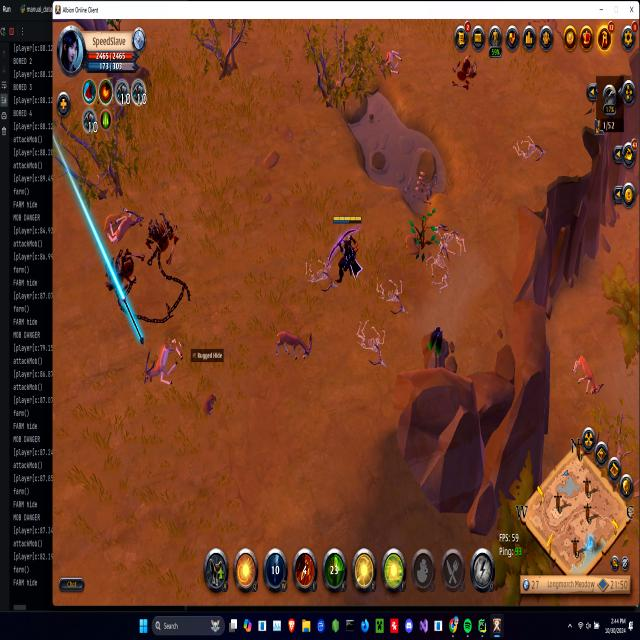mob: (142, 334, 184, 394), (106, 204, 144, 246), (379, 46, 403, 84)
ore: (571, 344, 605, 406), (273, 326, 314, 366)
player: (424, 322, 451, 371)
red: (330, 212, 363, 288)
